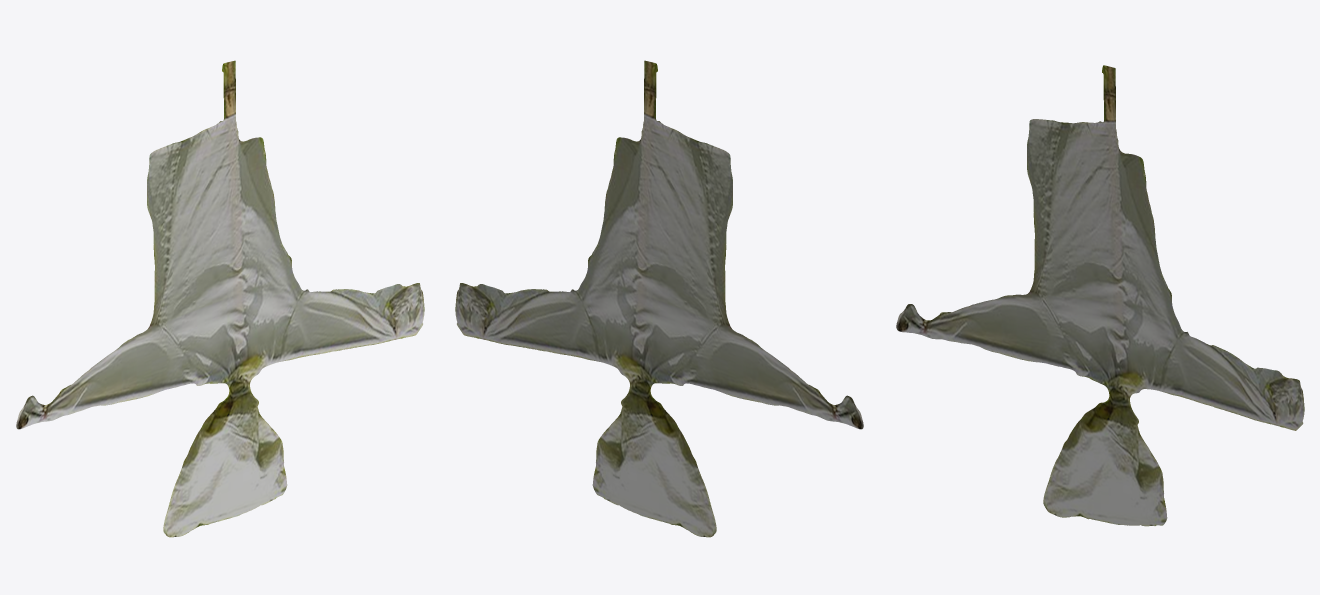
The model's file is scarecrow.obj.
3 renders of one model, left to right at view 1: azimuth 30°, elevation 25°; view 2: azimuth 150°, elevation 25°; view 3: azimuth 330°, elevation 25°, orthographic.
Parts seen in each view (by area): view 1: Plane001; view 2: Plane001; view 3: Plane001.
Boxes of the visible parts, x1,y1,x2,y2 form: Plane001: [16, 60, 424, 537]; Plane001: [455, 60, 863, 537]; Plane001: [896, 65, 1304, 526].
Size of the model in its own units: 1.2 by 1.3 by 0.
1 material, 1 textured.
